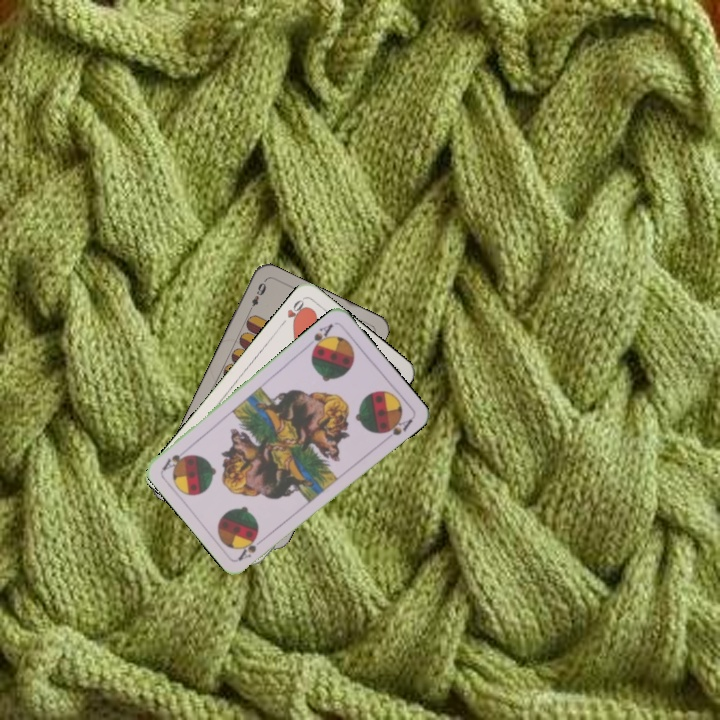E9: (245, 278, 269, 315)
HO: (276, 295, 309, 329)
SA: (303, 319, 336, 354), (234, 533, 269, 563)
